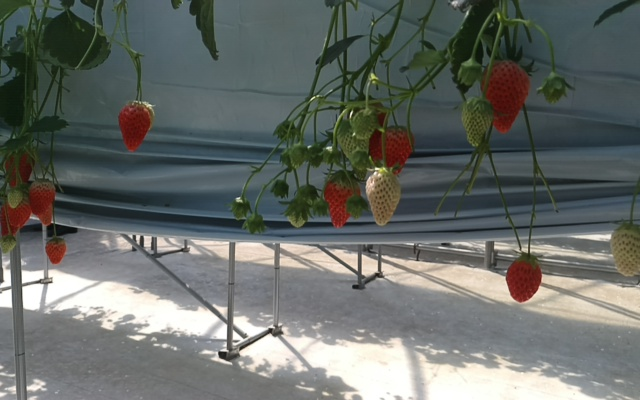GreenStrawberry: (364, 168, 402, 228), (333, 118, 371, 171), (608, 218, 640, 279), (459, 95, 495, 149), (350, 107, 379, 142), (282, 198, 310, 228), (5, 186, 26, 211), (1, 235, 20, 256)
MatureStrawberry: (478, 47, 532, 136), (369, 117, 413, 180), (321, 169, 363, 230), (504, 251, 544, 304), (117, 102, 152, 155), (3, 144, 34, 194), (27, 176, 57, 227), (1, 192, 34, 238), (44, 235, 67, 268)
